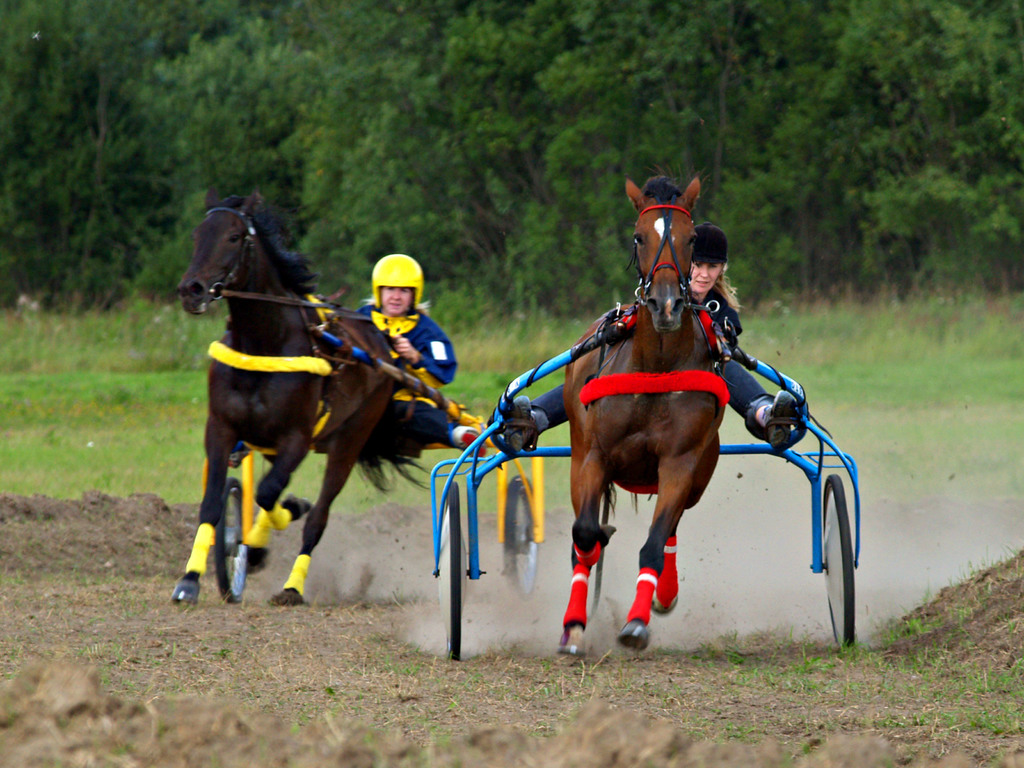horse: (169, 185, 430, 606), (556, 163, 725, 656)
